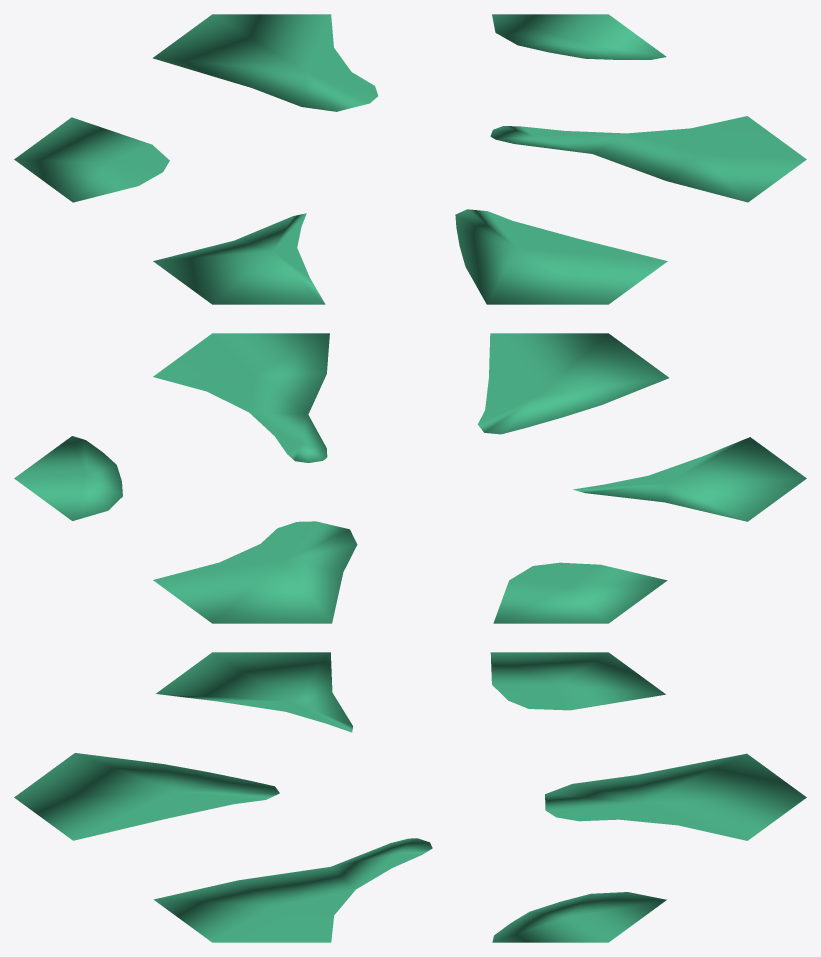
File: riverM_flat.fbx
The picture shows the model from 3 angles, top to bottom: view 1: azimuth 30°, elevation 25°; view 2: azimuth 150°, elevation 25°; view 3: azimuth 270°, elevation 25°; orthographic projection.
Parts seen in each view (by area): view 1: hex_forest_roadM_Cylinder.497; view 2: hex_forest_roadM_Cylinder.497; view 3: hex_forest_roadM_Cylinder.497.
Boxes of the visible parts, left/top/right/bottom form: hex_forest_roadM_Cylinder.497: left=14, top=14, right=806, bottom=304; hex_forest_roadM_Cylinder.497: left=14, top=333, right=806, bottom=623; hex_forest_roadM_Cylinder.497: left=14, top=652, right=806, bottom=942.
Bounding box in the file's own units: 190 × 1.66e-05 × 220.
